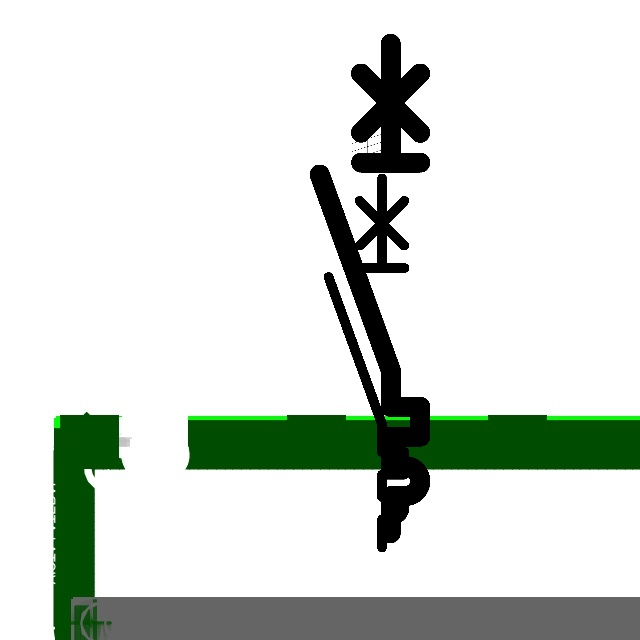interruptor_termomagnetico: (307, 31, 433, 546), (319, 168, 414, 556)
